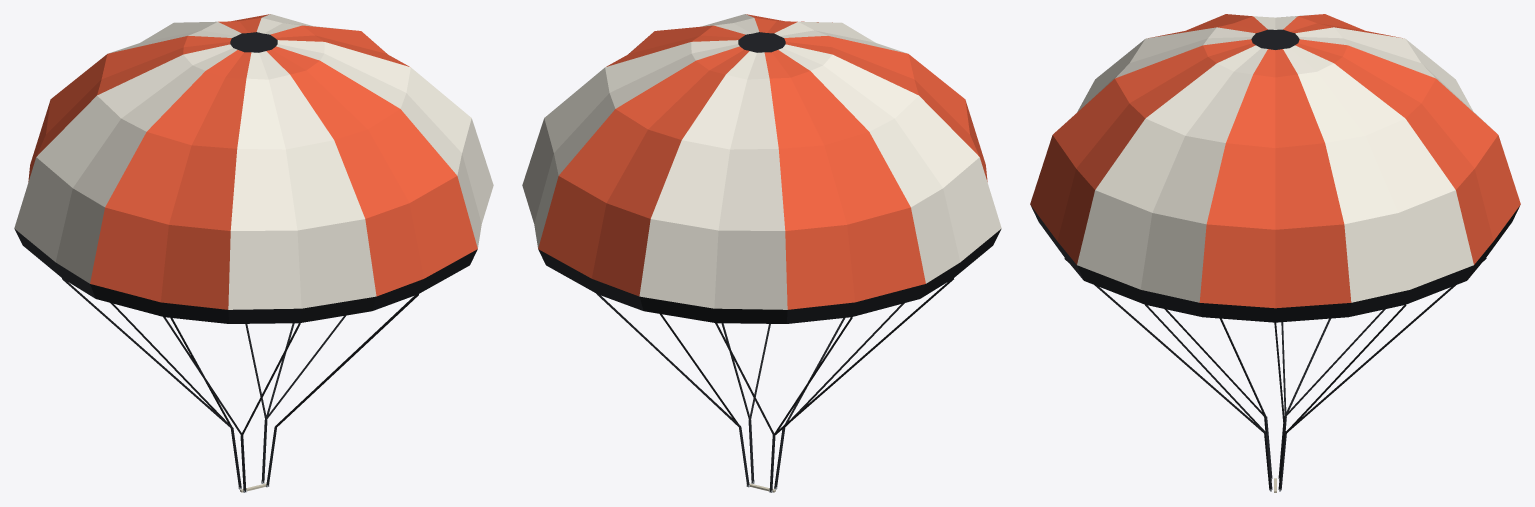
File: parachute_canopy.glb
3 renders of one model, left to right at view 1: azimuth 30°, elevation 25°; view 2: azimuth 150°, elevation 25°; view 3: azimuth 270°, elevation 25°, orthographic.
Visible parts, largest first — view 1: Body, Lines; view 2: Body, Lines; view 3: Body, Lines.
Part boxes in pixels (bbox=[...]): Body: bbox=[14, 14, 493, 323]; Lines: bbox=[62, 278, 418, 492]; Body: bbox=[522, 14, 1001, 323]; Lines: bbox=[596, 278, 953, 492]; Body: bbox=[1030, 14, 1520, 322]; Lines: bbox=[1064, 258, 1486, 492].
Bounding box in the file's own units: 7.12 × 7.53 × 7.49.
